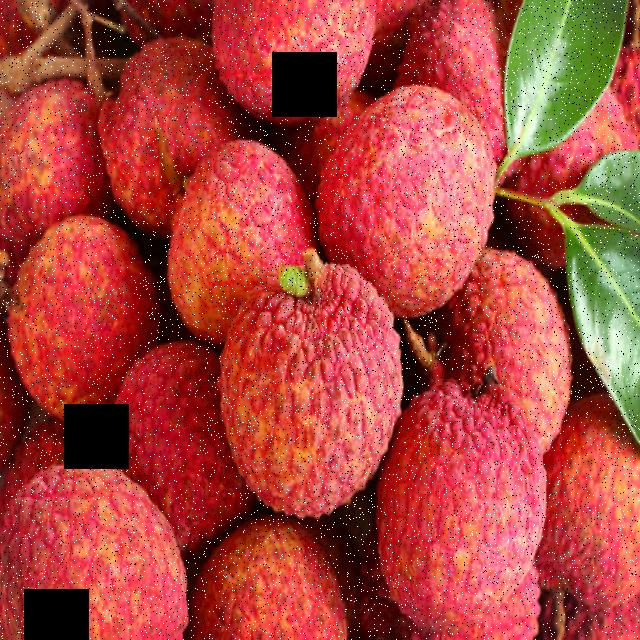lychee: (87, 72, 586, 604)
